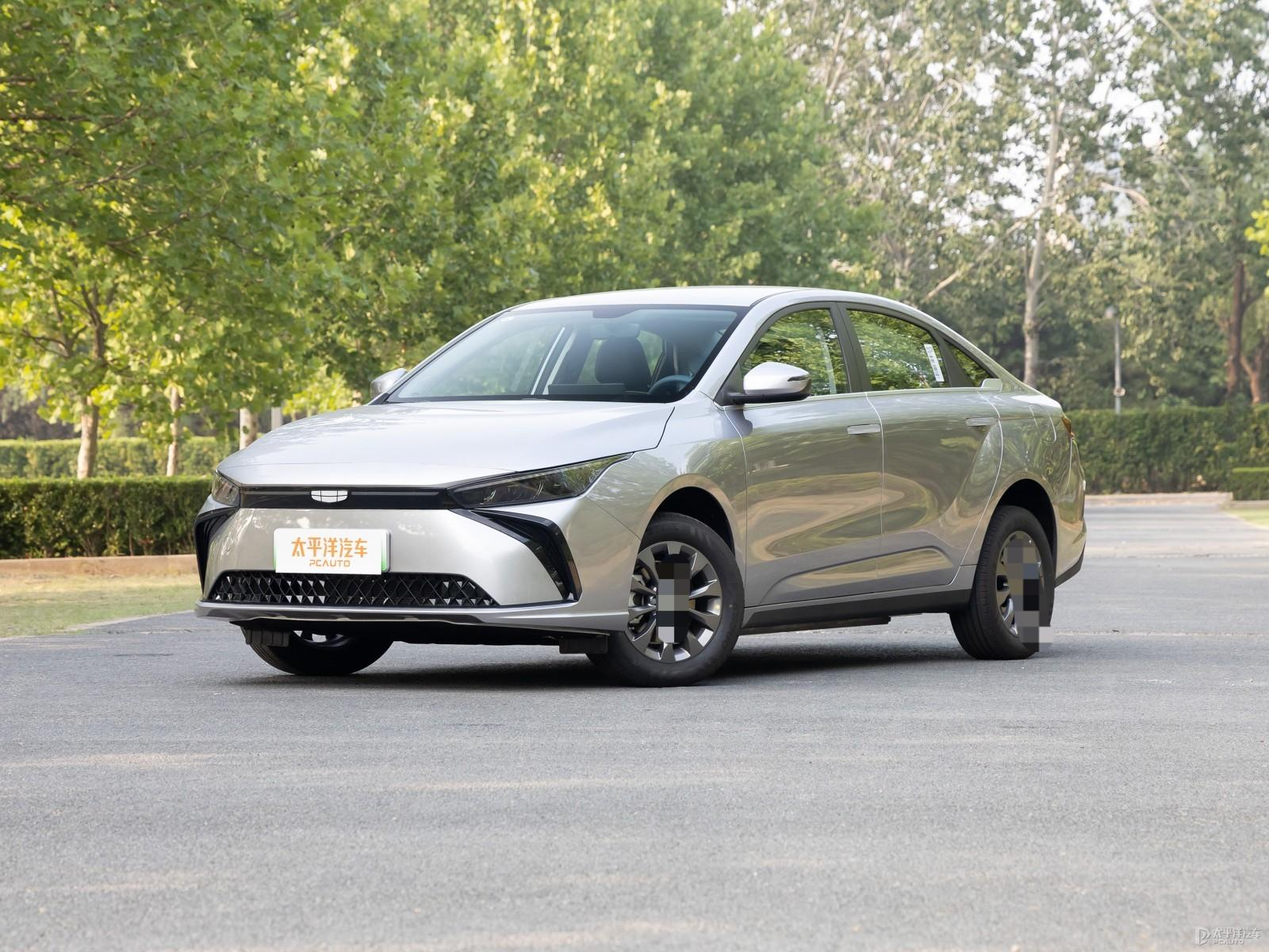GEOMETRY: (312, 491, 347, 502)
